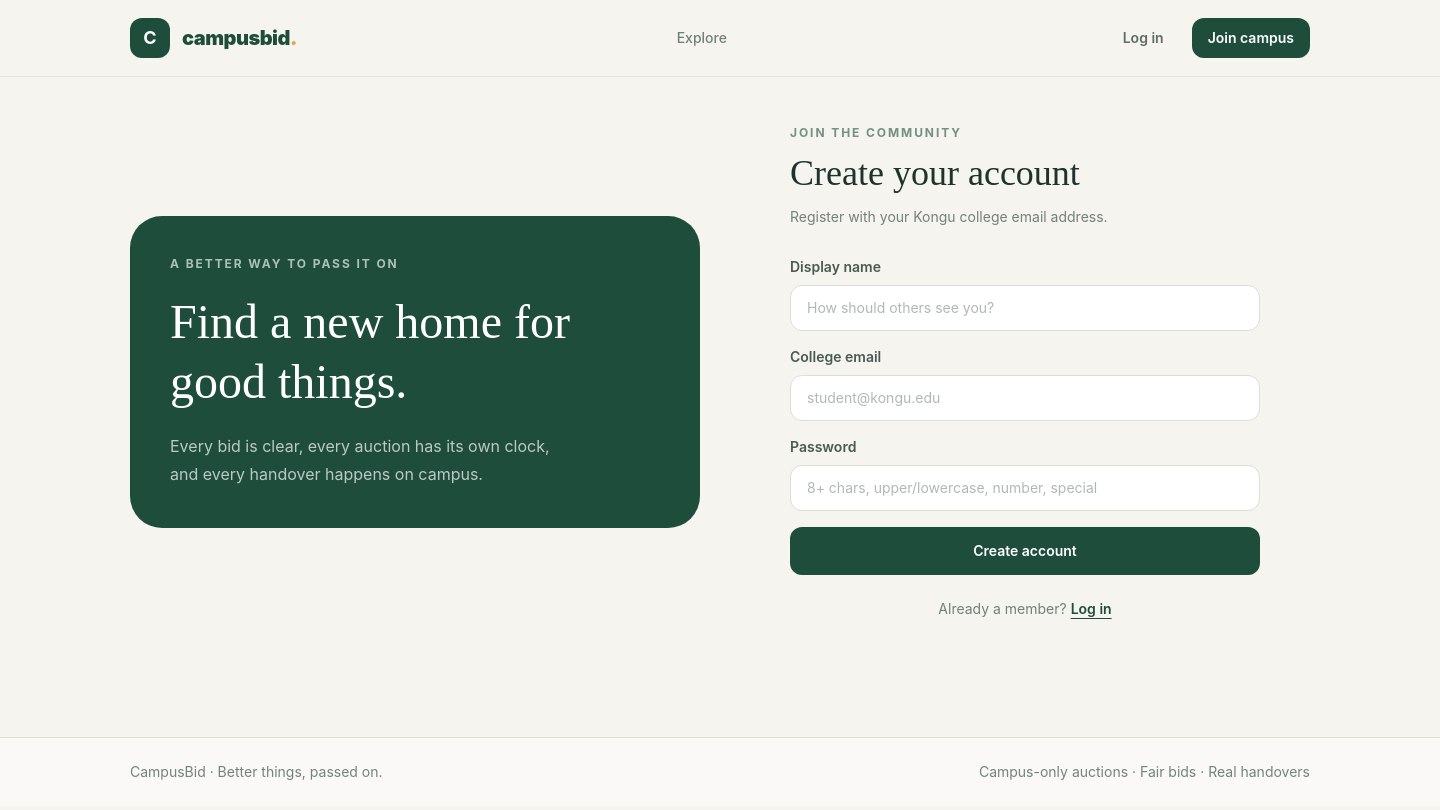
Test: CampusBid registration validation › shows field-specific email and password errors and prevents an invalid request
Type "Kongu Student" into the field labelled "Display name".
click(1025, 308); type("Kongu Student")  # box left=790, top=285, right=1260, bottom=331
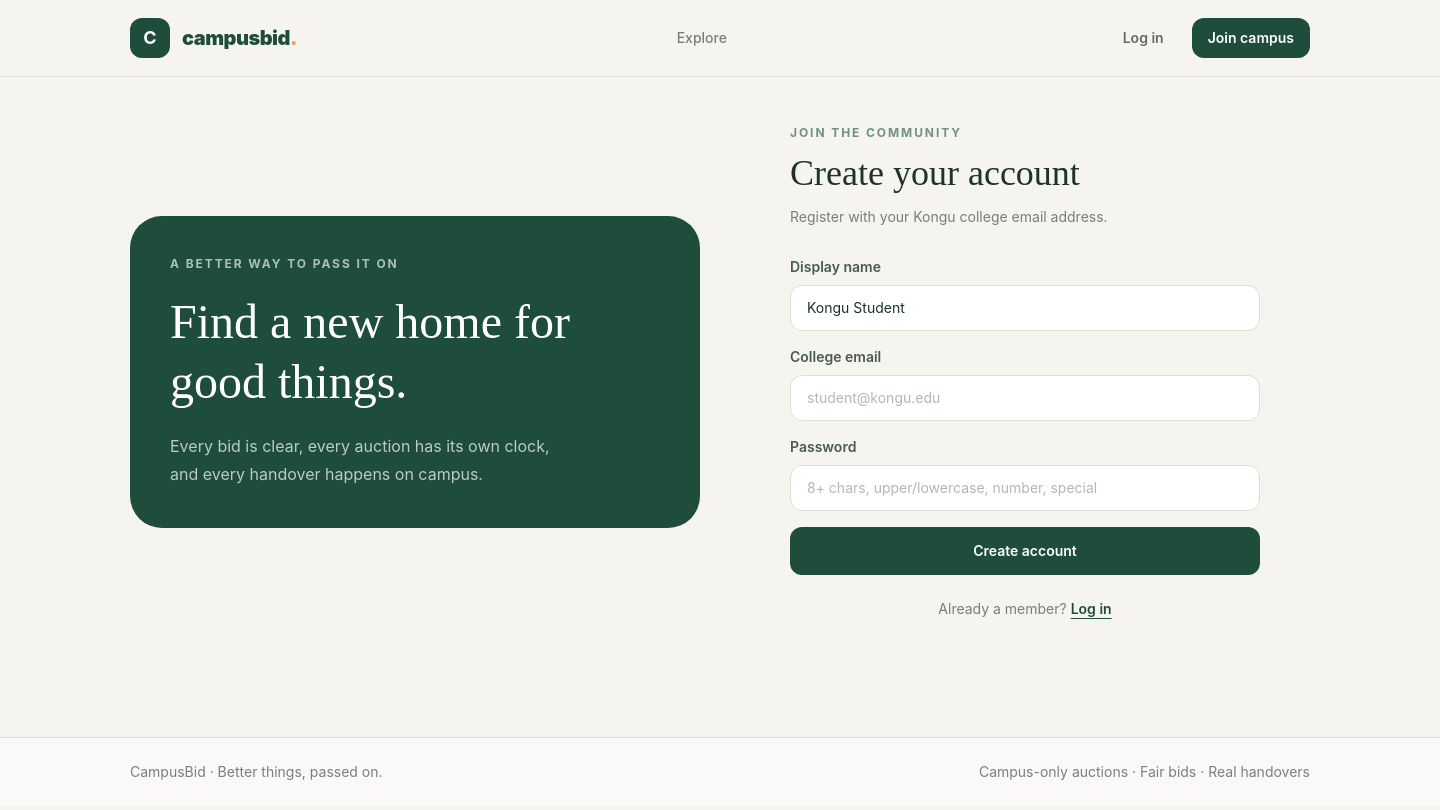
Type "student@gmail.com" into the field labelled "College email".
click(1025, 398); type("student@gmail.com")  # box left=790, top=375, right=1260, bottom=421
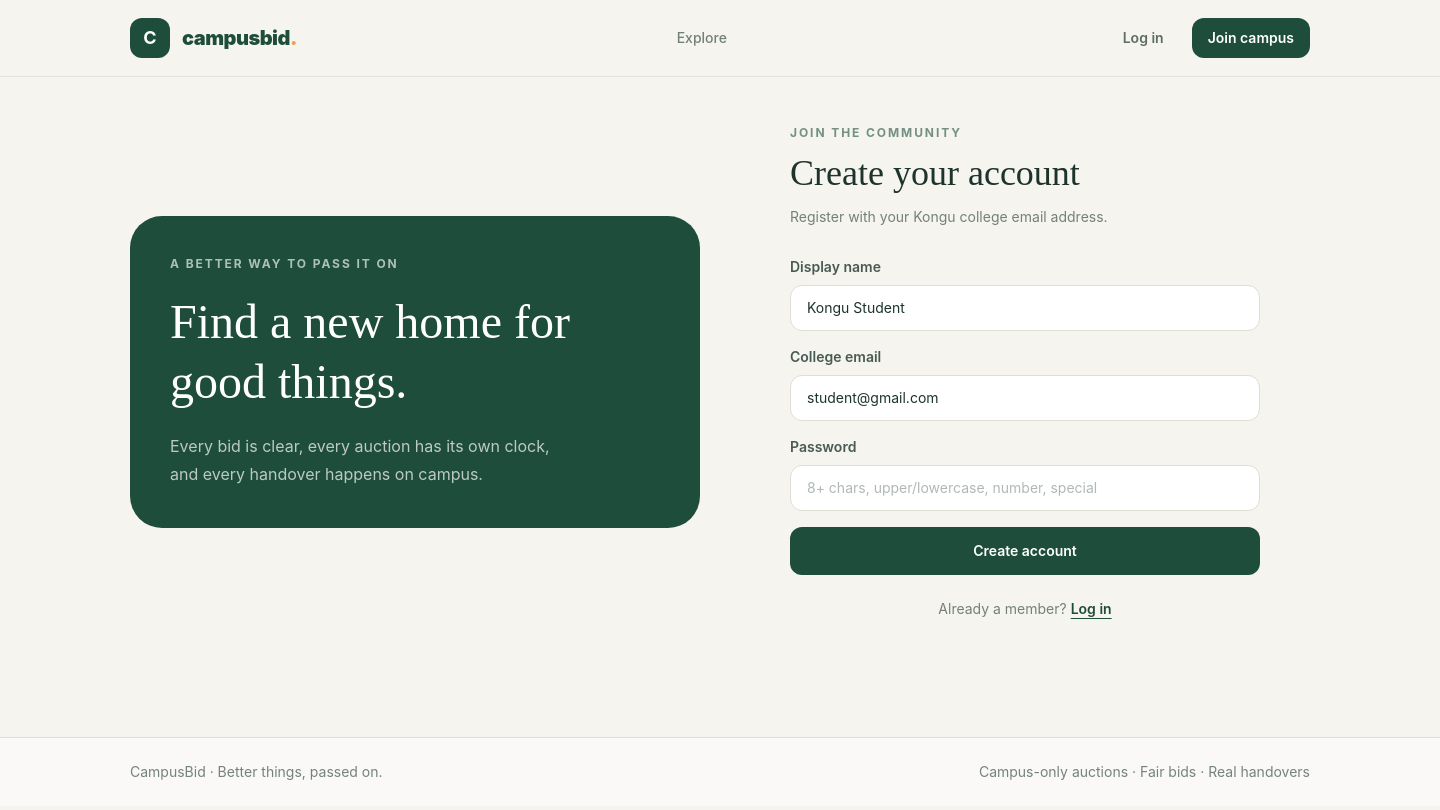
Type "Campus @123" into the password field labelled "Password".
click(1025, 488); type("Campus @123")  # box left=790, top=465, right=1260, bottom=511
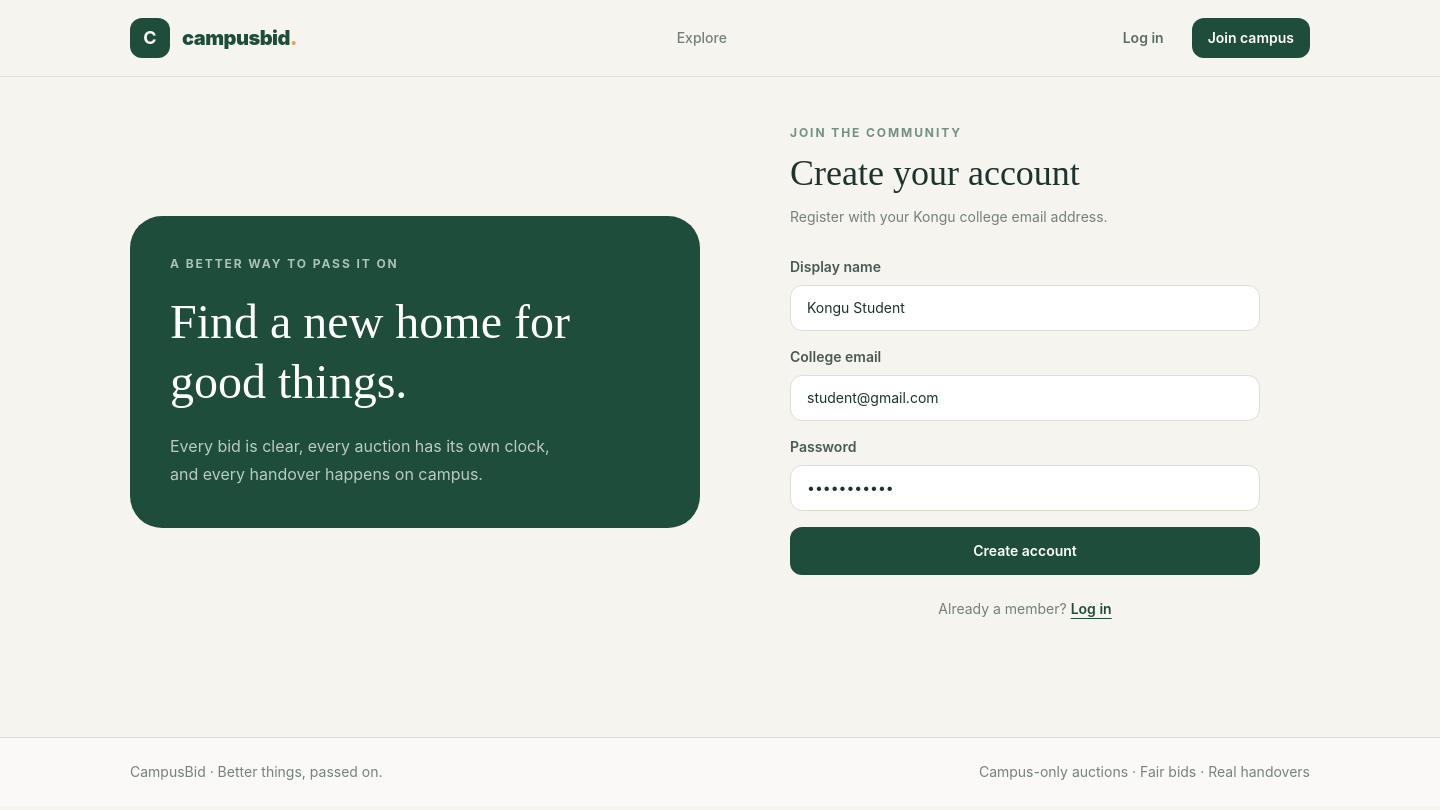
Click the button "Create account".
click(1025, 551)  # box left=790, top=527, right=1260, bottom=575
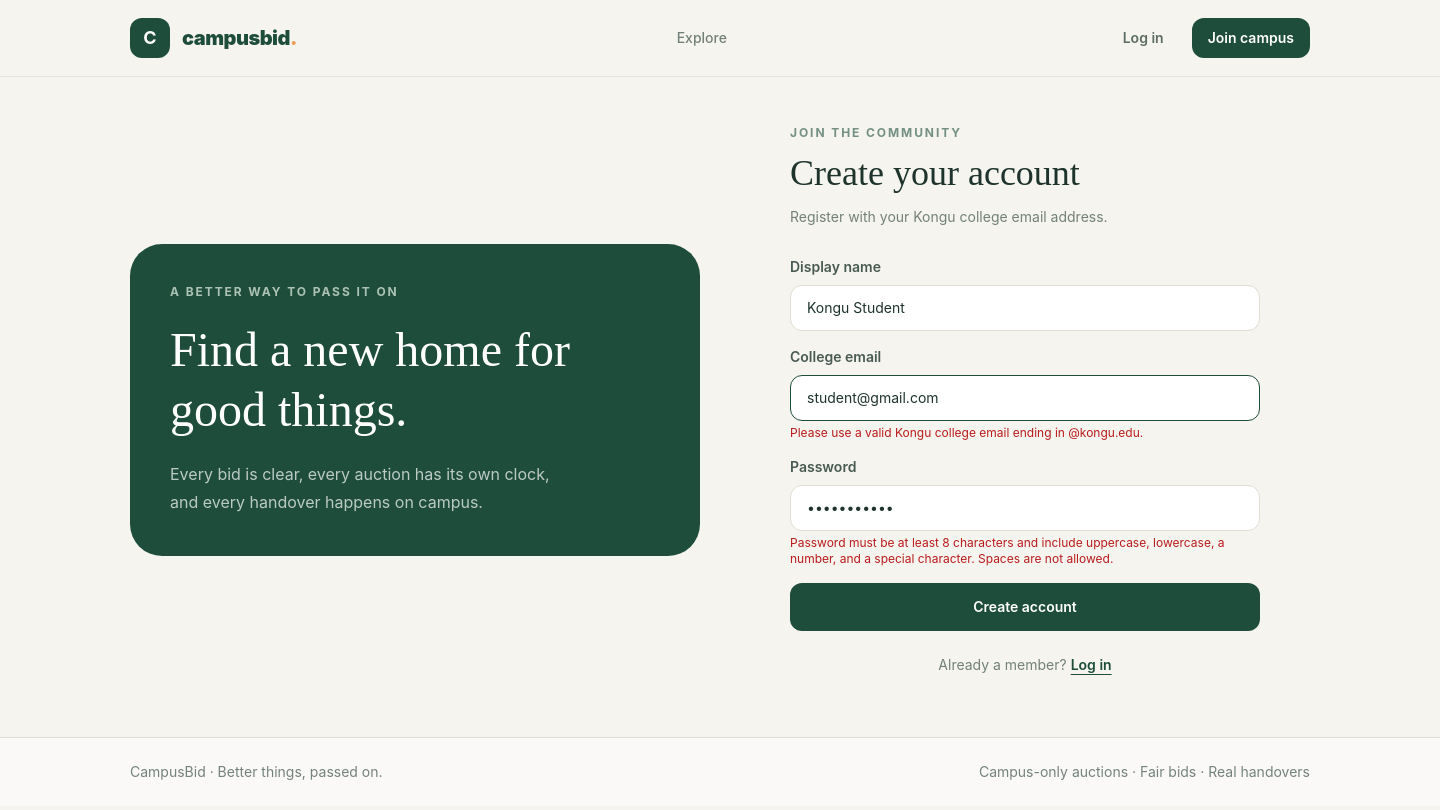
Check: the text "Please use a valid Kongu college email ending in @kongu.edu." is shown, box left=790, top=425, right=1143, bottom=440
Check: the text "Password must be at least 8 characters and include uppercase, lowercase, a number, and a special character. Spaces are n" is shown, box left=790, top=535, right=1224, bottom=566
